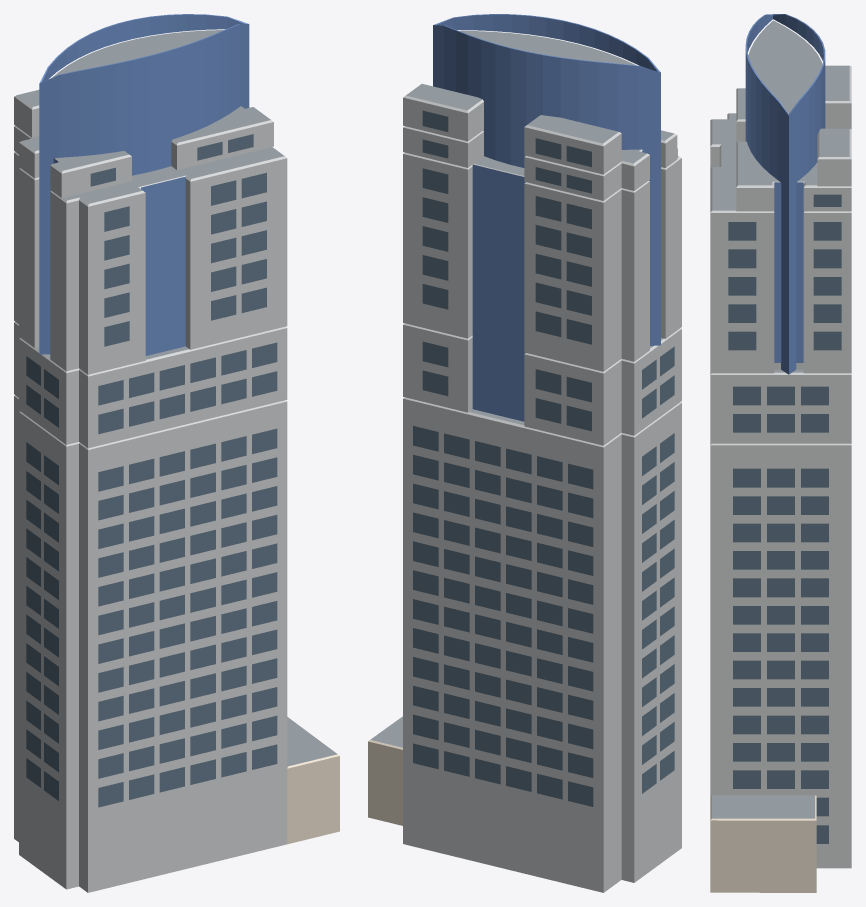
File: la-gas-company-tower.glb
3 renders of one model, left to right at view 1: azimuth 30°, elevation 25°; view 2: azimuth 150°, elevation 25°; view 3: azimuth 270°, elevation 25°, orthographic. The views are drawn at different scales.
Visible parts, largest first — view 1: Gas Company Tower; view 2: Gas Company Tower; view 3: Gas Company Tower.
Part boxes in pixels (x1,y1,x2,y2): Gas Company Tower: (14,14,339,892); Gas Company Tower: (368,14,681,892); Gas Company Tower: (710,14,851,892).
Size of the model in its own units: 80.2 by 230 by 38.4.
